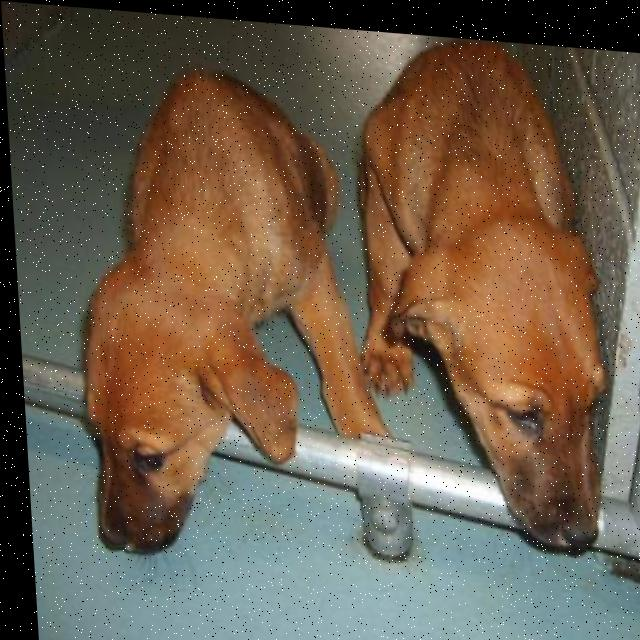dogs: (335, 21, 617, 617), (61, 58, 355, 602)
